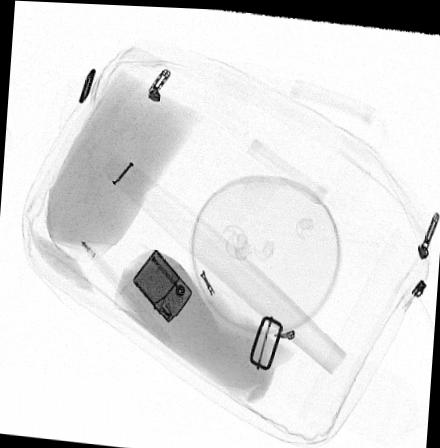Lighter: (133, 248, 192, 321)
